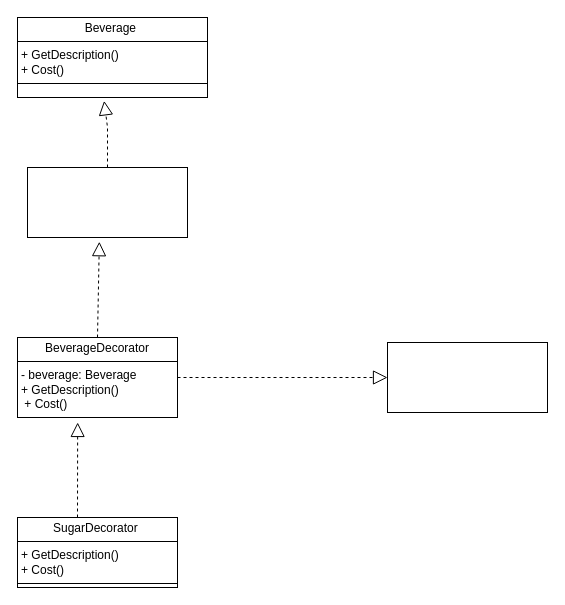
The diagram is 565 pixels wide and 605 high, and some of its shapes have lost their labels. Each missing label, with the centre of its shape:
Coffee + GetDescription() + Cost(): (x=107, y=202)
MilkDecorator + GetDescription() + Cost(): (x=467, y=377)
